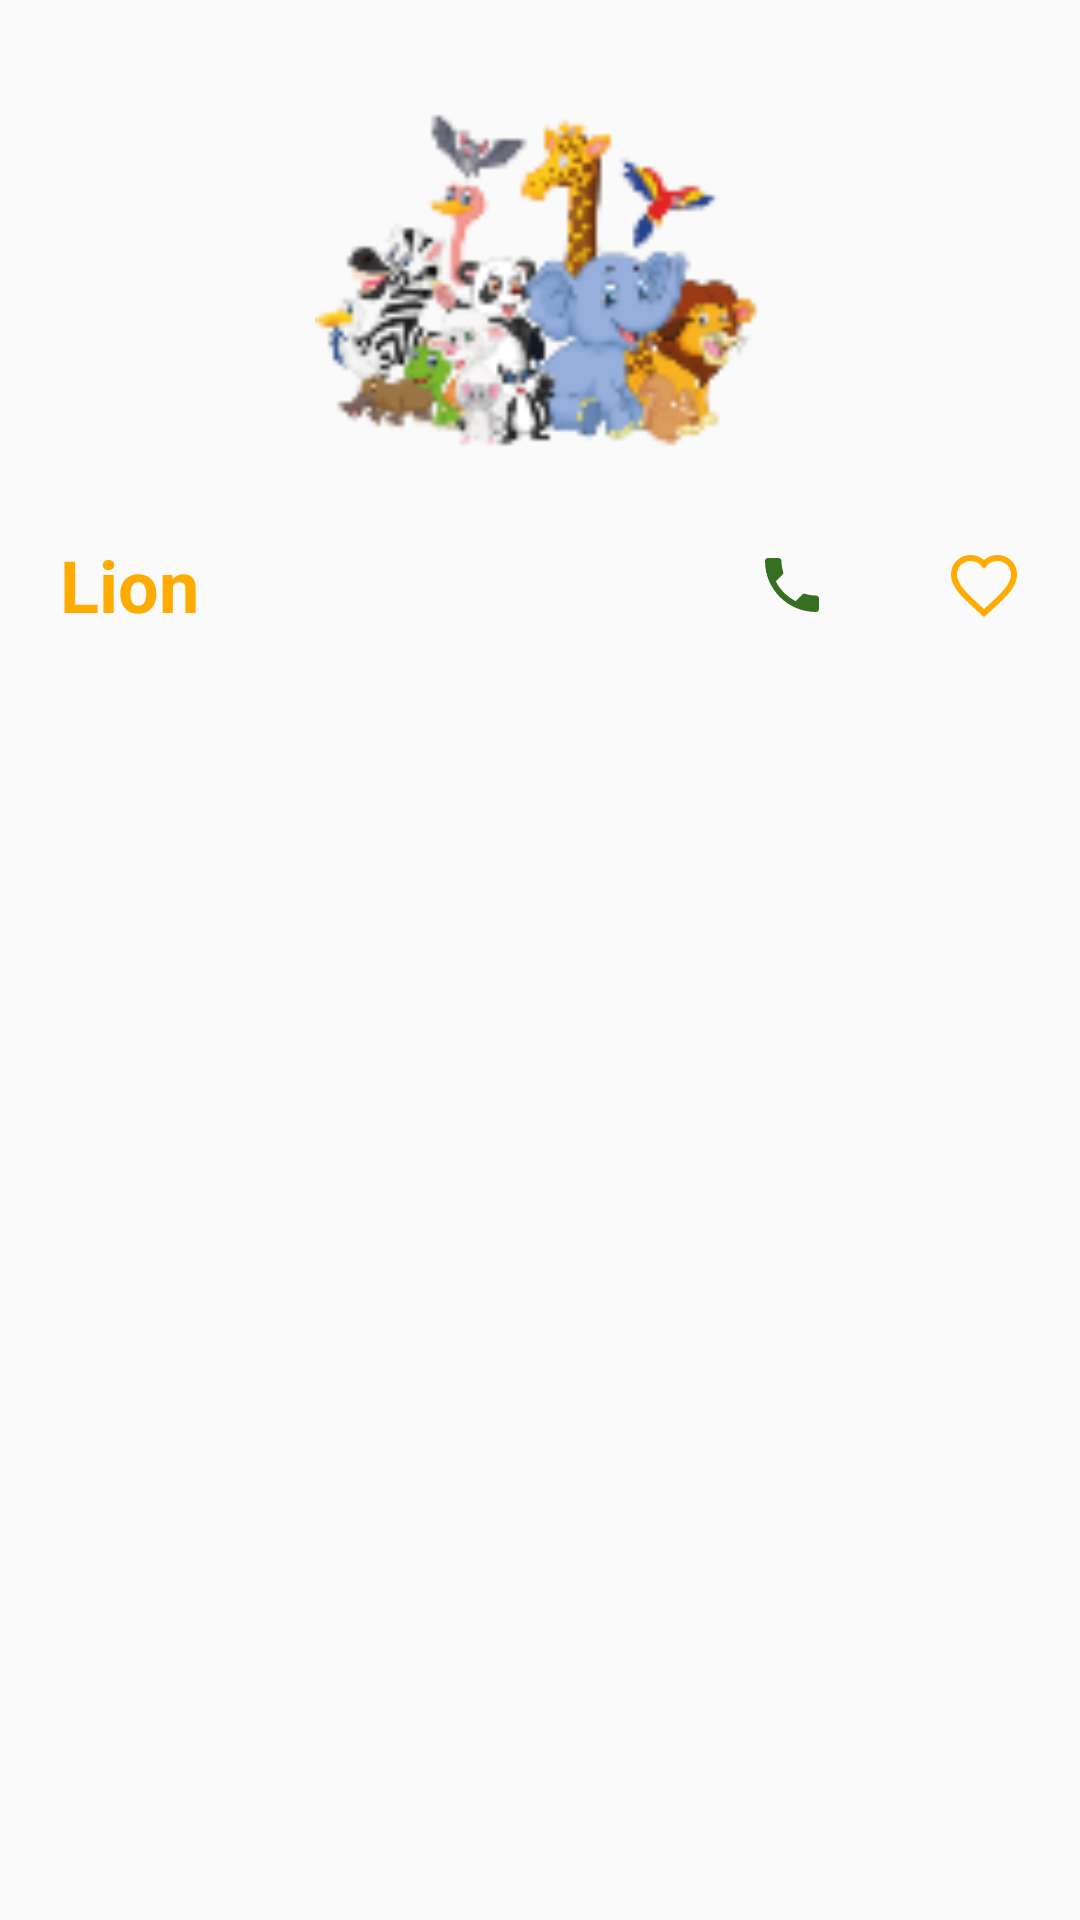

Screen size 1080px×1920px. Icon name, then its center in pixels as (x=x, y=y):
heart: (x=984, y=586)
phone: (x=792, y=585)
